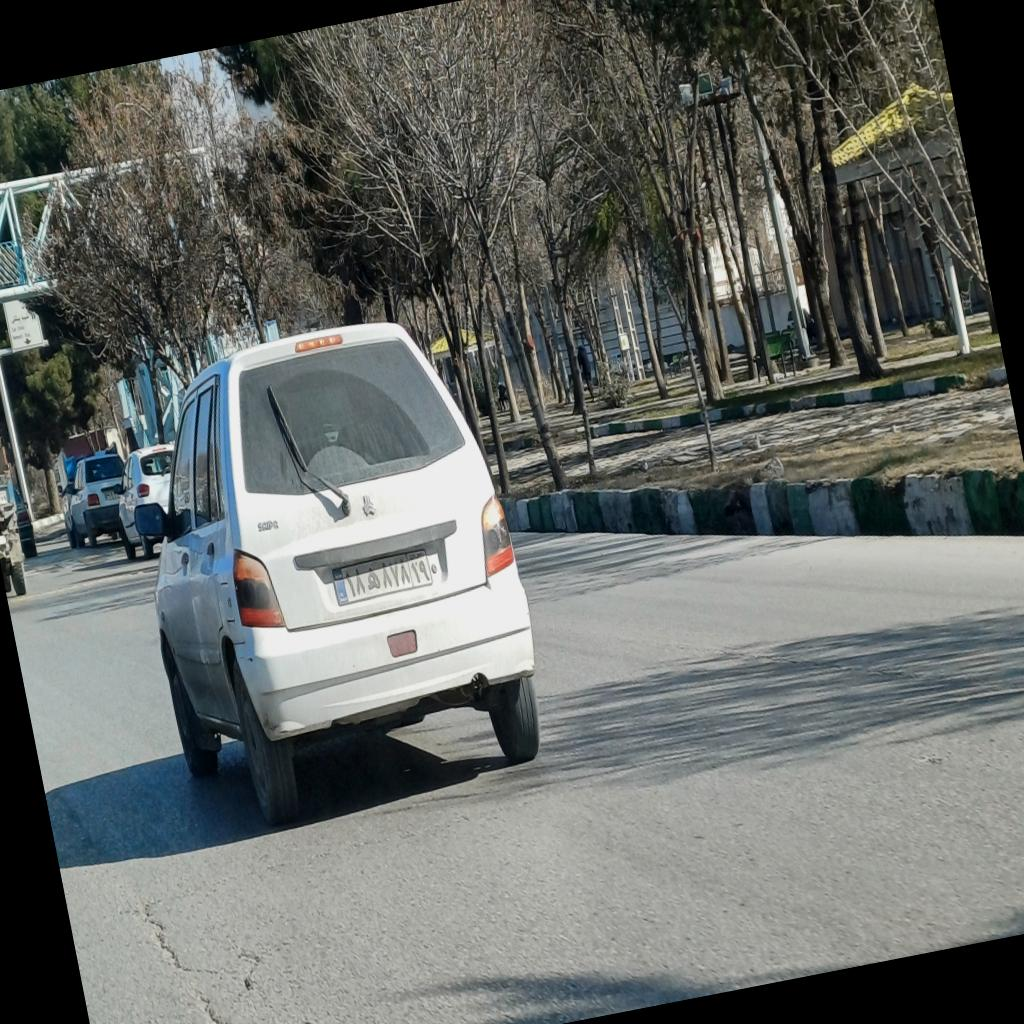Plates: (331, 549, 434, 604)
